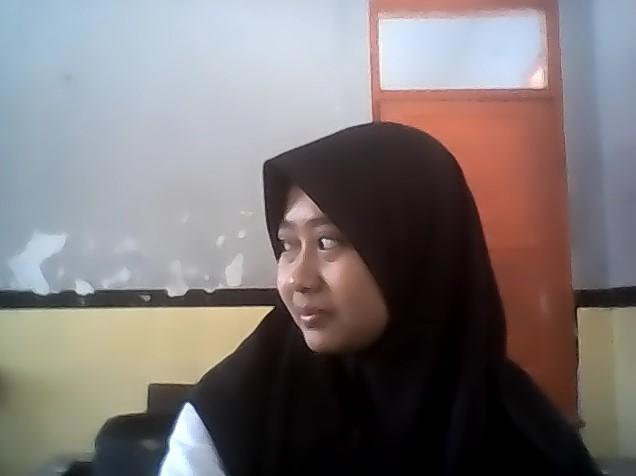cheating: (142, 86, 599, 476)
